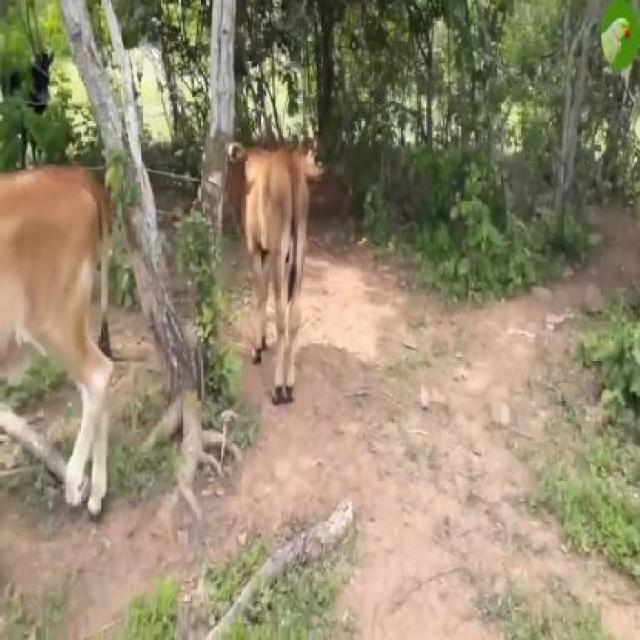Cow: (222, 142, 309, 406)
